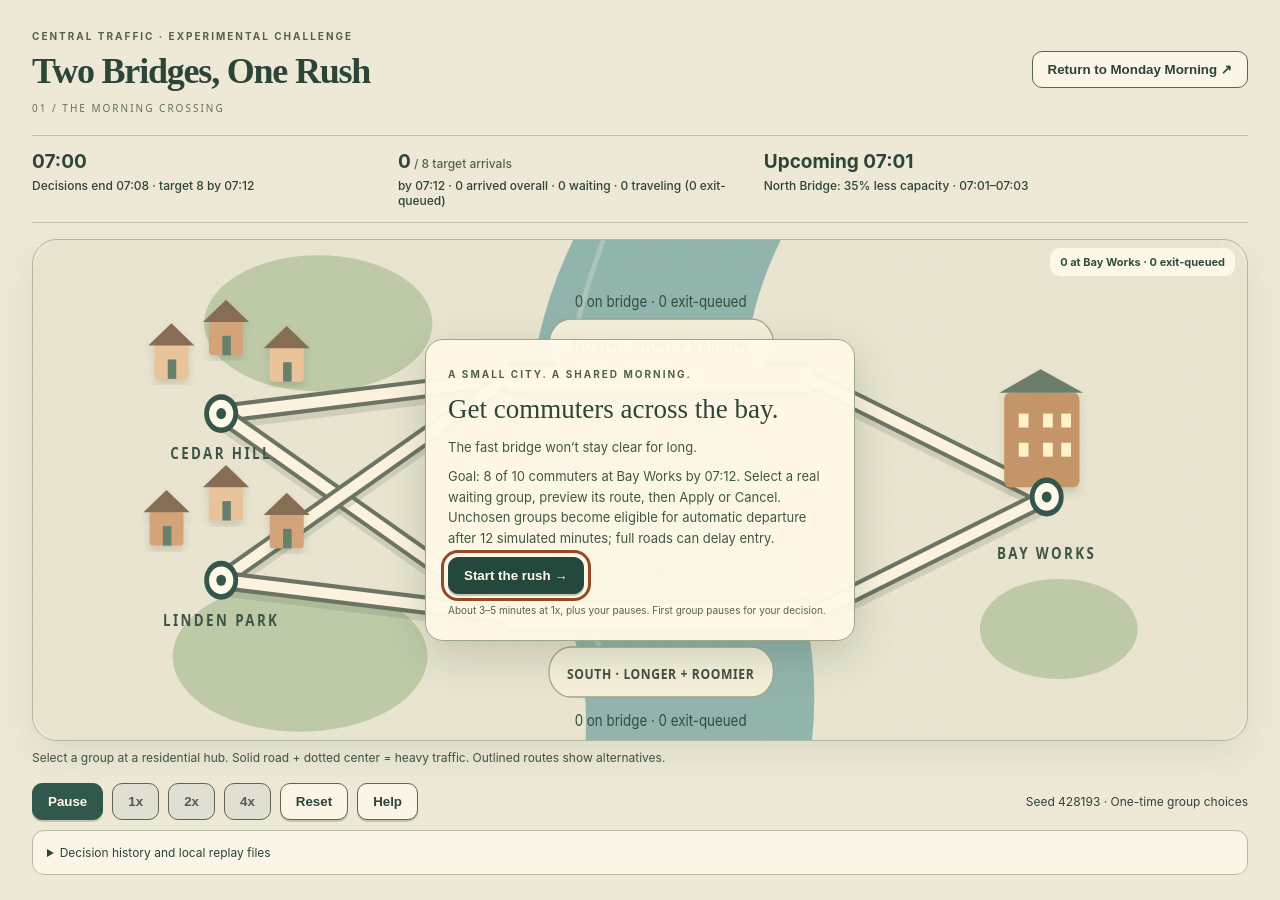
experimental interaction › counts local active playback time while excluding pauses without affecting engine time
Step 1. Click the button "Start the rush →" → (516, 576), box [448,557,584,594]
(page scrolled)
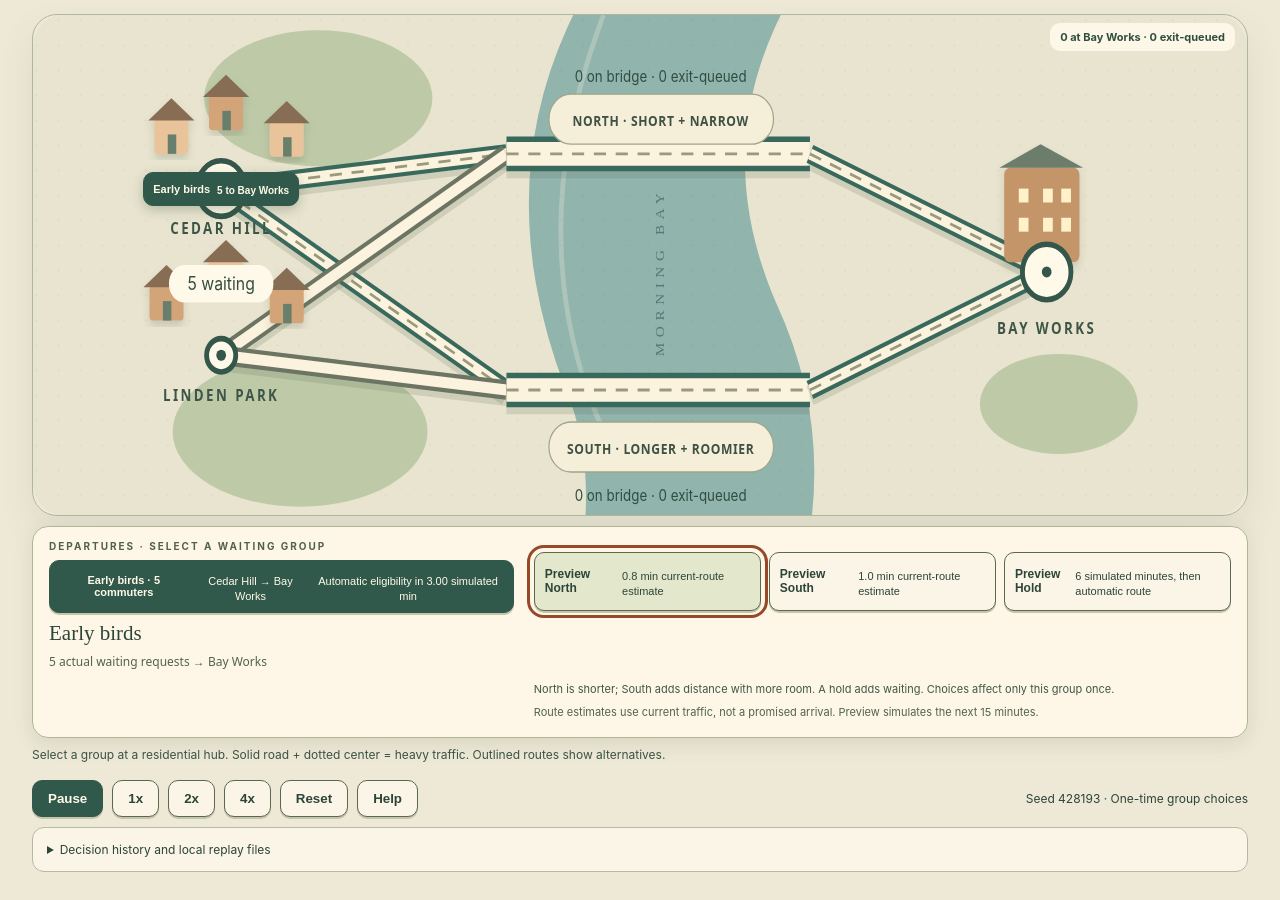
Step 2. Click the button "1x" → (136, 798), box [112,780,159,817]
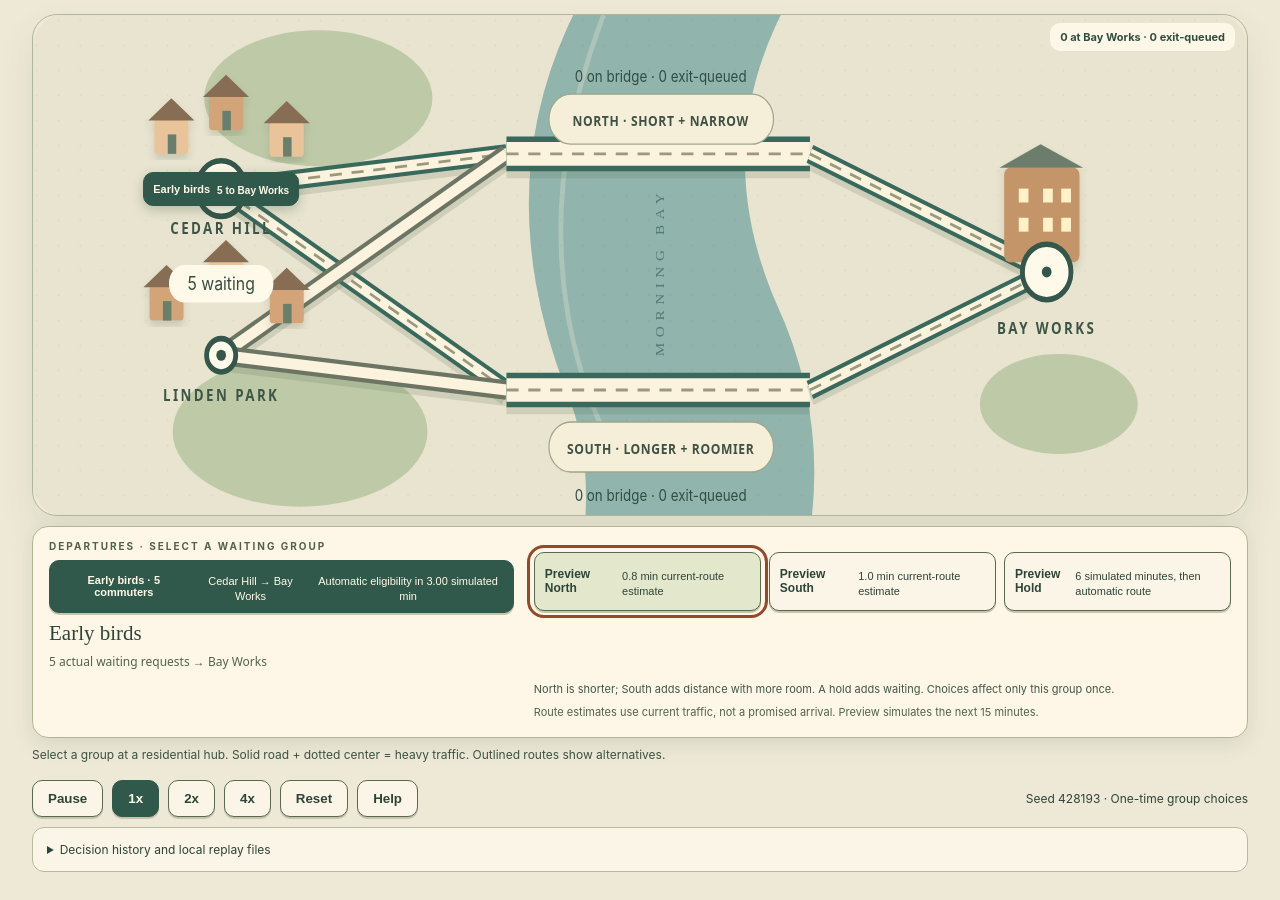
Step 3. Click the button "Pause" → (68, 798), box [32,780,103,817]
(page scrolled)
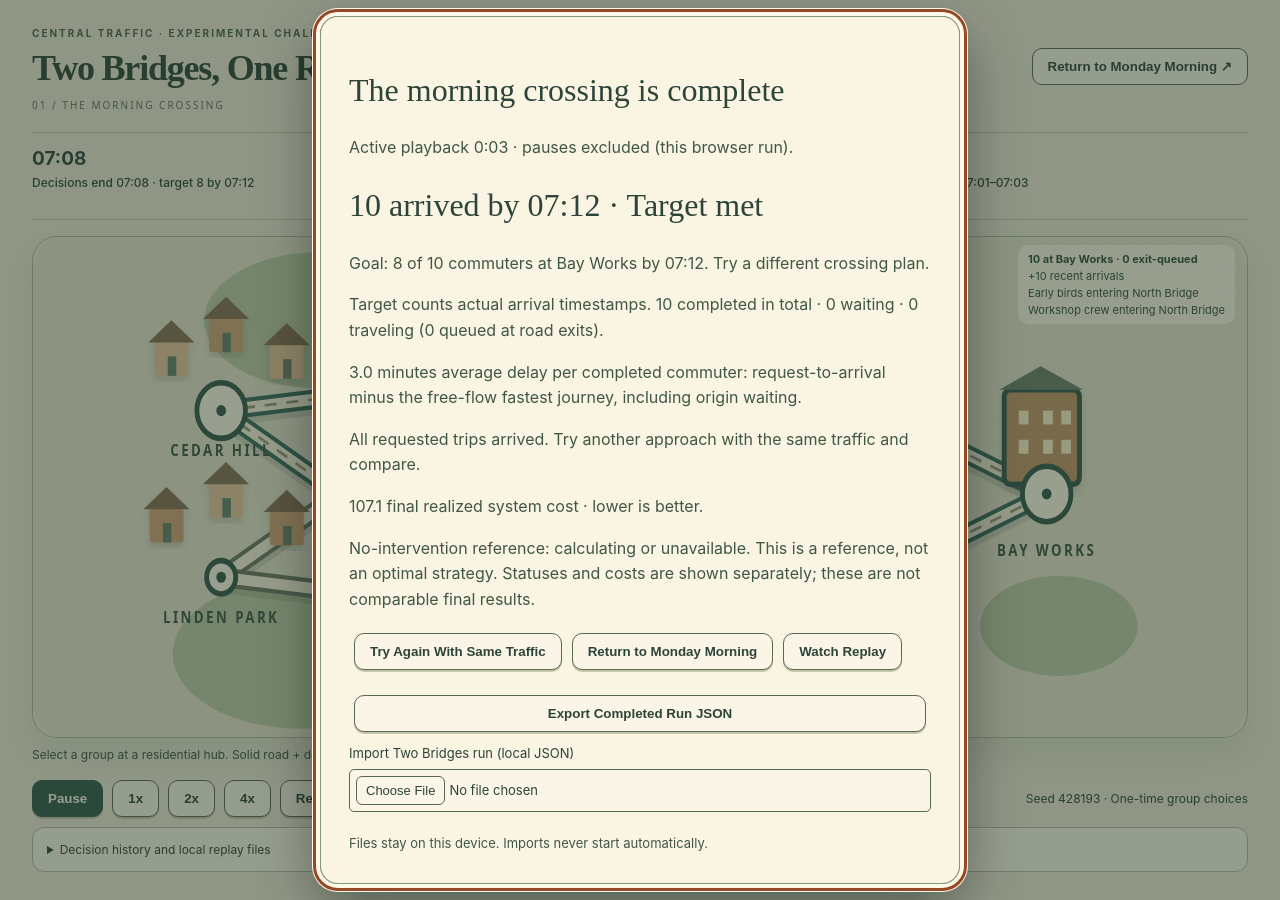
Check: the text "Active playback 0:03" is shown, box [349,137,793,157]
